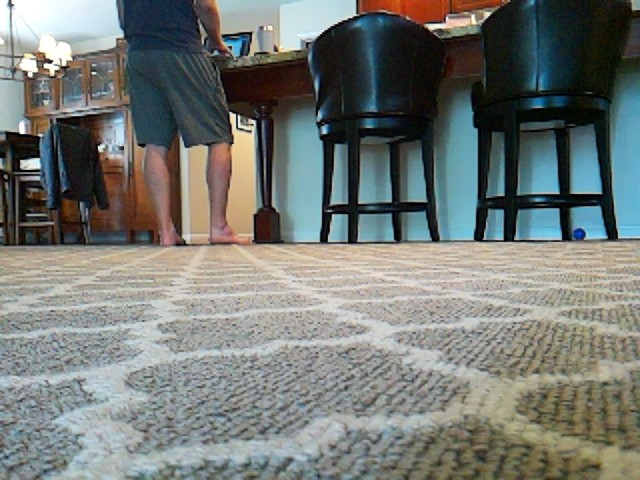Drivable Area: (0, 242, 640, 480)
Obstacle: (471, 0, 627, 240), (304, 7, 456, 245), (116, 0, 264, 243), (0, 123, 95, 242)
